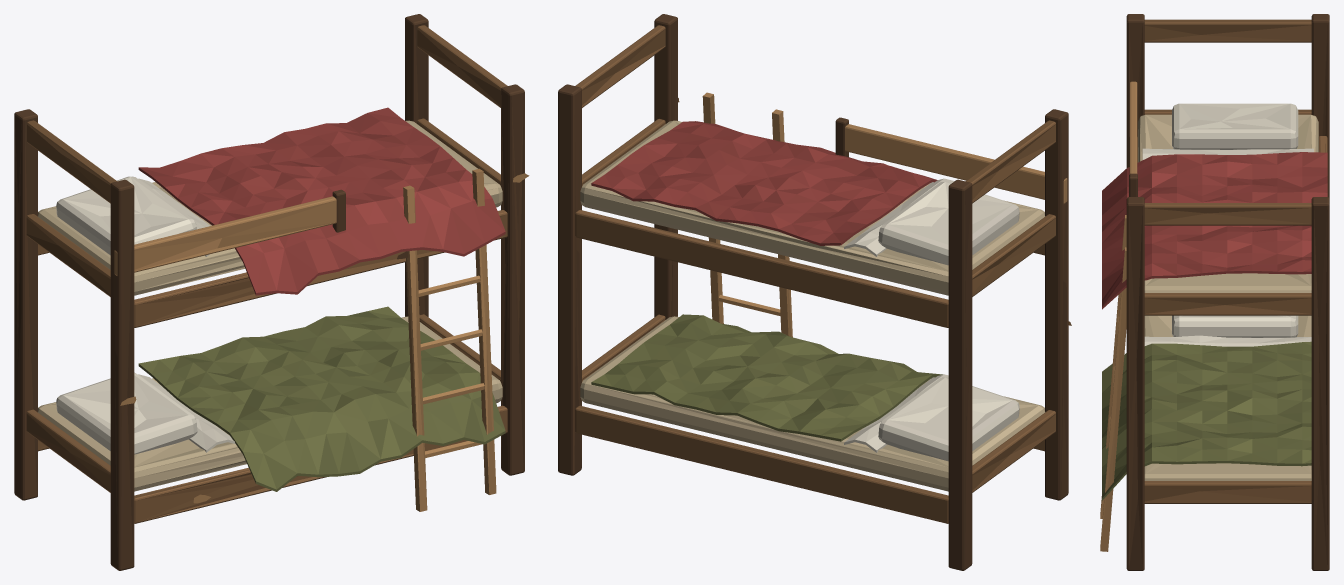
File: bunk_bed_derevyannaya_idle.glb
3 views of the same model, side by side, from view 1: azimuth 30°, elevation 25°; view 2: azimuth 150°, elevation 25°; view 3: azimuth 270°, elevation 25° (orthographic). The views are drawn at different scales.
Visible parts, largest first — view 1: bunk_bed_derevyannaya_idle; view 2: bunk_bed_derevyannaya_idle; view 3: bunk_bed_derevyannaya_idle.
Boxes of the visible parts, box(x1,y1,x2,y2) form: bunk_bed_derevyannaya_idle: box(14, 14, 529, 570); bunk_bed_derevyannaya_idle: box(558, 14, 1071, 570); bunk_bed_derevyannaya_idle: box(1100, 14, 1329, 570).
Bounding box in the file's own units: 2.01 × 1.8 × 1.02.
1 material, 1 textured.
